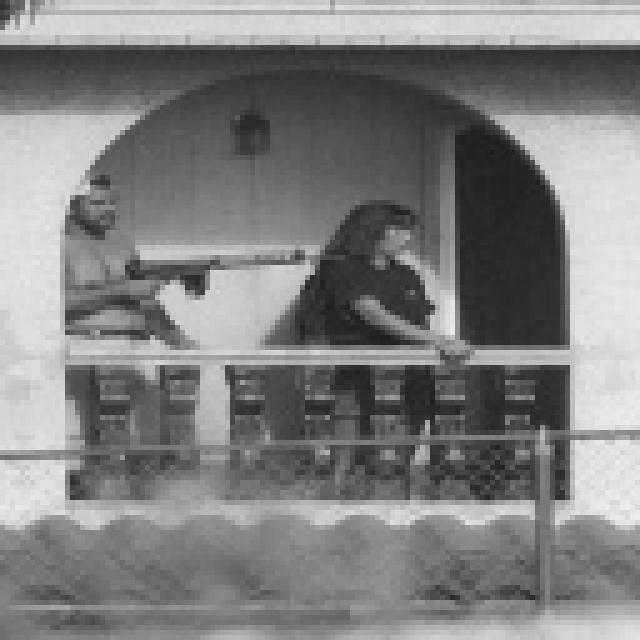Rifle: (102, 228, 322, 347)
